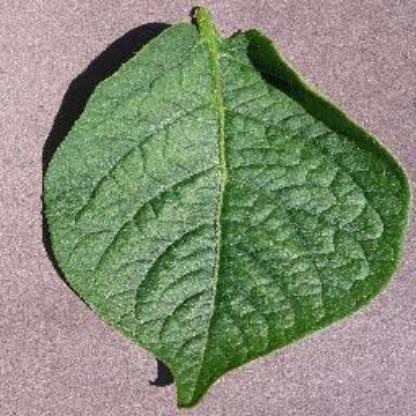Healthy-plant: (39, 5, 415, 408)
